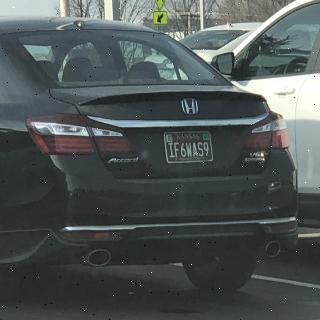license: (164, 132, 215, 165)
